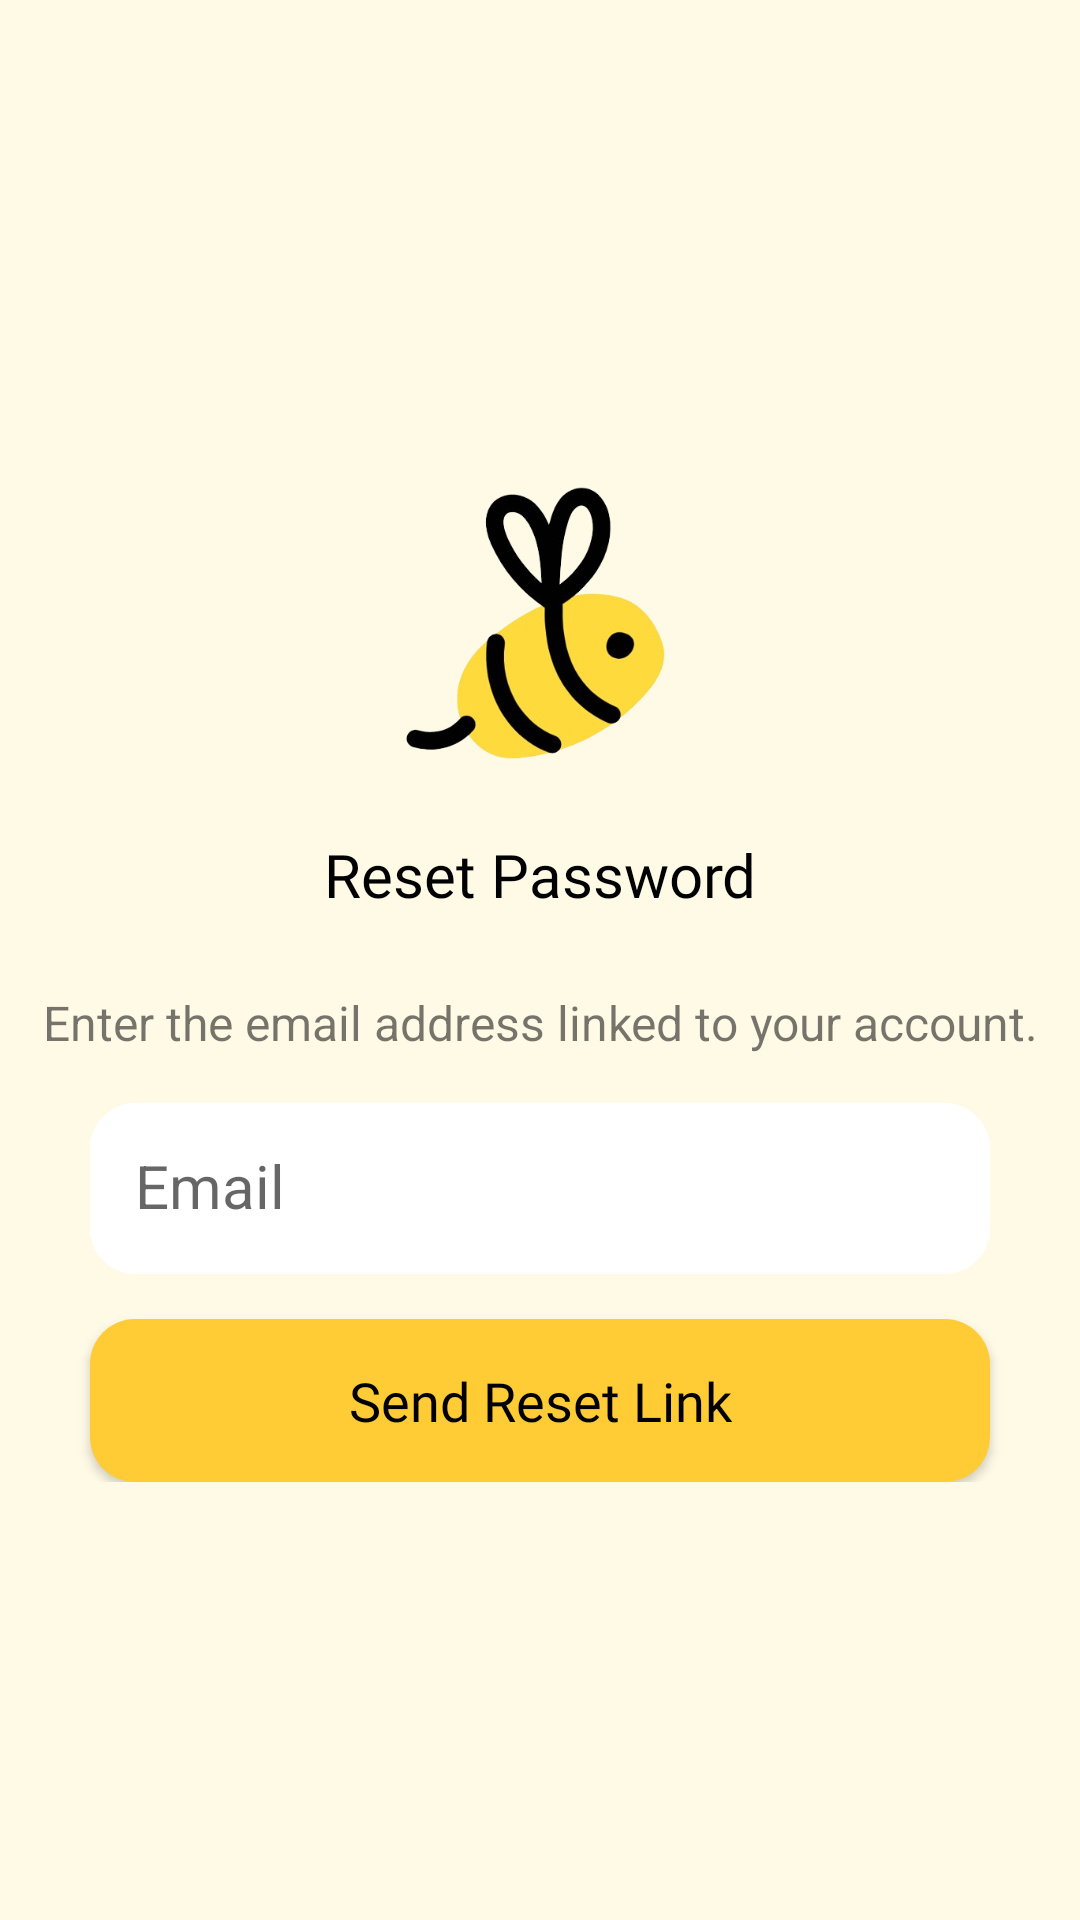

Locate icon controls on the screen. Image size 1080*1920, boxes as bbox=(x1, y1, x2, y2).
budgethive: bbox=(406, 487, 665, 759)
